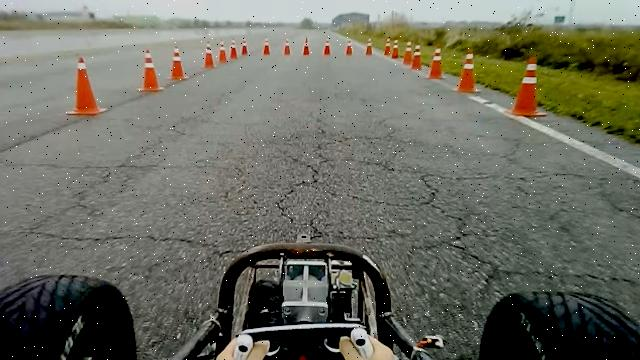red cone: (506, 56, 548, 118), (66, 55, 108, 116), (454, 48, 482, 93), (136, 48, 164, 91), (166, 45, 189, 81), (426, 47, 446, 79), (203, 40, 217, 69), (410, 44, 422, 70), (402, 41, 413, 65), (218, 39, 228, 63), (229, 38, 239, 60), (322, 36, 332, 55), (392, 39, 401, 58), (262, 36, 271, 55), (302, 36, 311, 55), (241, 36, 249, 56), (365, 37, 373, 55), (283, 38, 291, 55), (384, 37, 391, 56), (345, 39, 353, 55)
